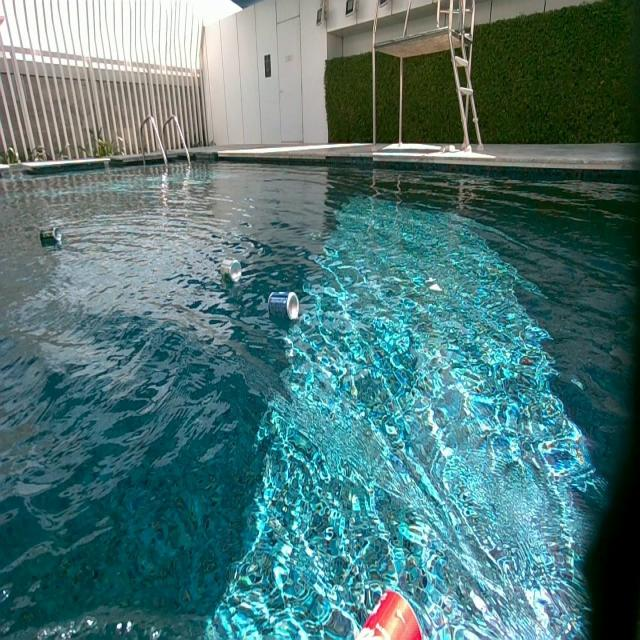Cans: (360, 592, 426, 640), (267, 292, 299, 323), (225, 262, 242, 284), (44, 228, 63, 245)
